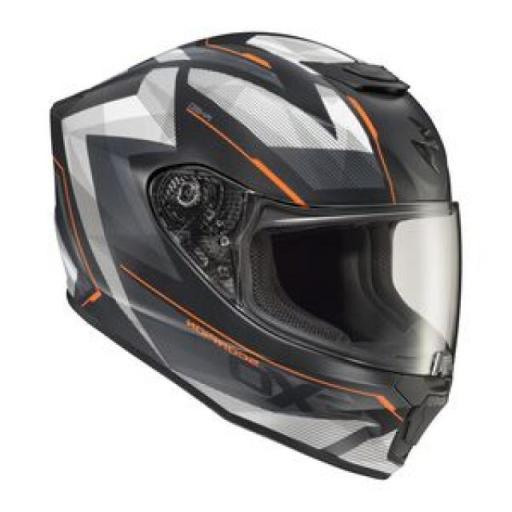Helmet: (52, 33, 459, 477)
